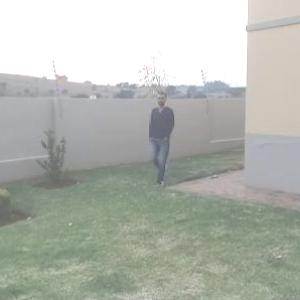follow: (150, 89, 183, 186)
